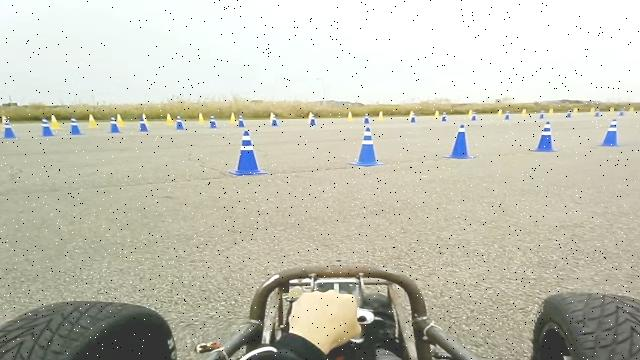blue cone: (228, 130, 268, 176), (348, 126, 386, 167), (442, 123, 476, 159), (528, 120, 557, 152), (598, 119, 621, 146), (39, 118, 55, 137), (107, 116, 123, 134), (68, 118, 84, 135), (2, 120, 17, 138), (137, 113, 149, 132), (438, 110, 452, 122), (304, 110, 317, 121), (271, 114, 281, 126), (238, 113, 246, 128), (209, 113, 216, 128), (178, 115, 185, 130), (410, 108, 417, 123), (504, 109, 512, 120), (310, 112, 316, 125), (363, 112, 369, 124), (471, 109, 476, 120), (565, 111, 572, 118), (594, 110, 600, 116)
yellow cone: (49, 114, 62, 129), (87, 114, 98, 128), (268, 108, 277, 122), (116, 114, 124, 126), (166, 113, 174, 125), (229, 112, 237, 123), (198, 112, 205, 123), (377, 111, 384, 119), (347, 111, 353, 120), (521, 108, 527, 115), (497, 108, 503, 115), (434, 110, 440, 117), (572, 107, 578, 113), (548, 108, 554, 113)
